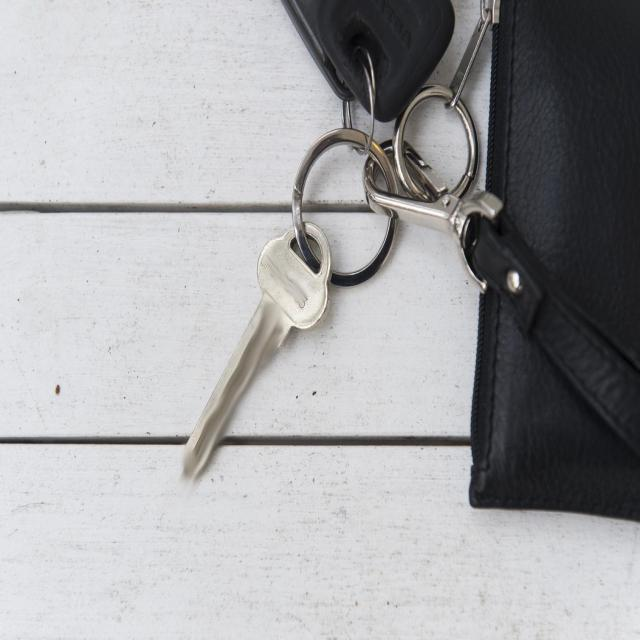Frontdoor keys: (174, 219, 334, 482)
